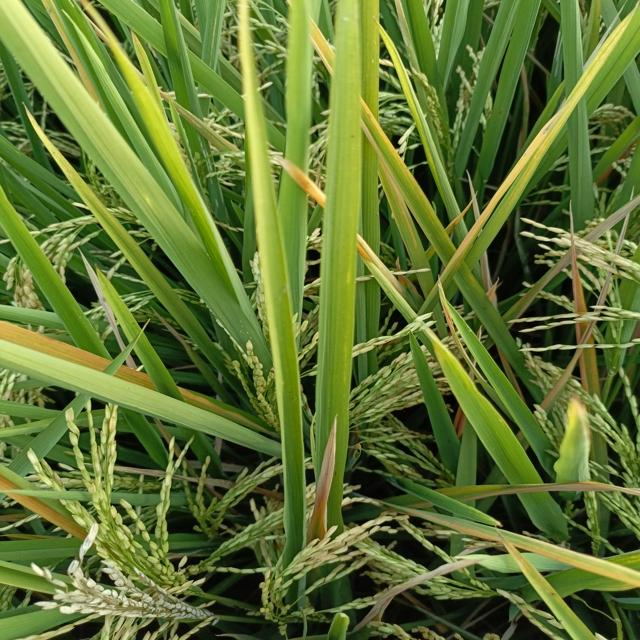Brown spot: (563, 193, 622, 406), (490, 528, 576, 613), (470, 477, 640, 511), (304, 410, 344, 544), (352, 219, 410, 300), (271, 150, 336, 213), (299, 12, 356, 77)
